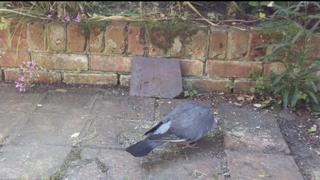wood pigeon: (125, 103, 214, 158)
